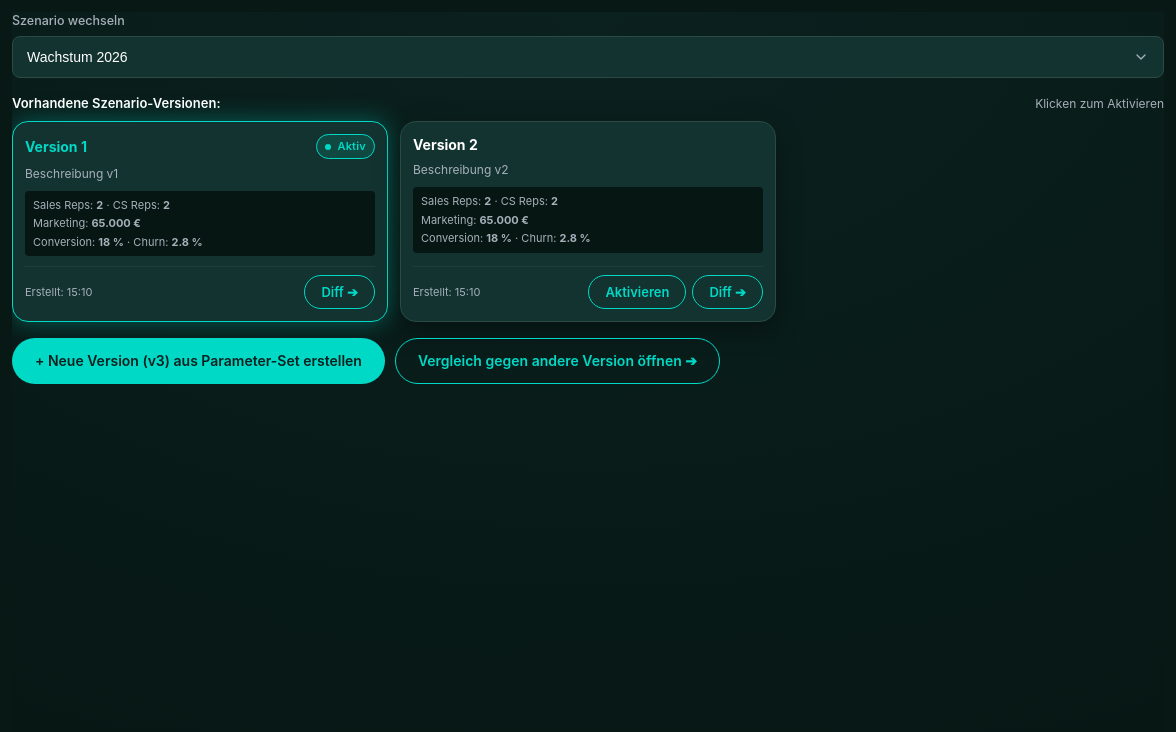
ScenarioManageTab (branch2) › Erfolgs-Submit schließt Formular, öffnet Diff und leert Beschreibung
This screenshot has width=1176, height=732.
Click the button "+ Neue Version (v3) aus Parameter-Set erstellen". click: (198, 361)
box: [12,338,385,384]
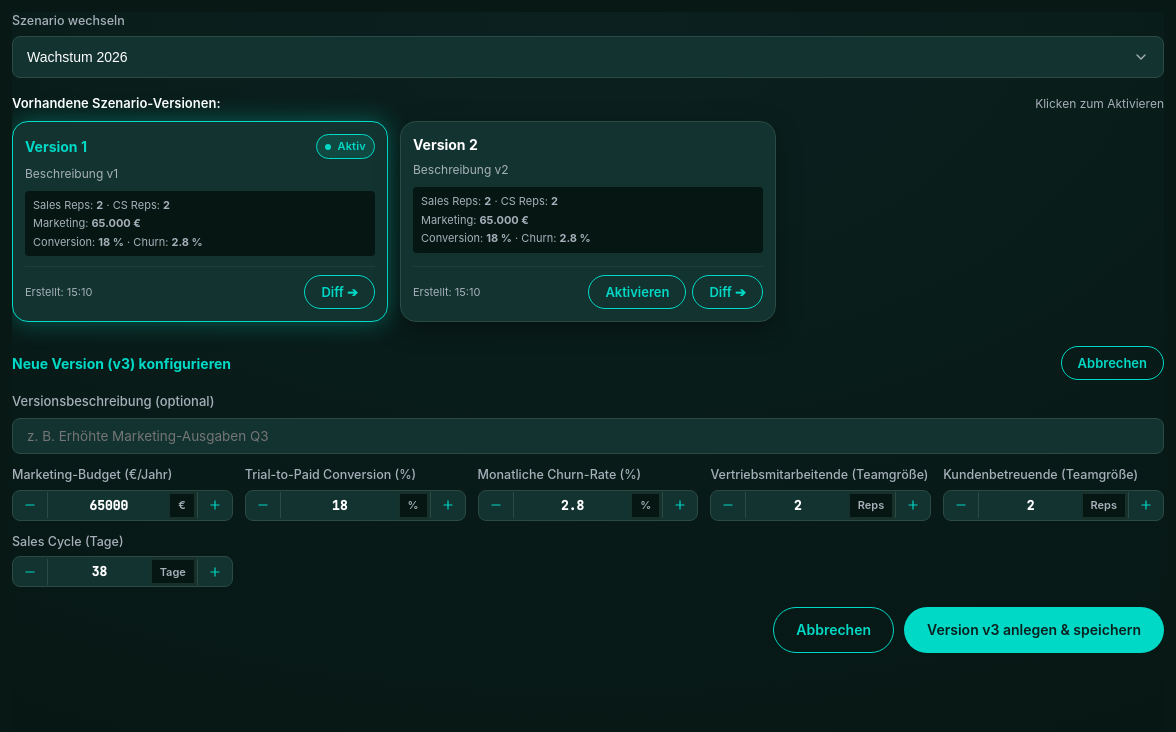
Type "Mehr Budget" into the field with placeholder "z. B. Erhöhte Marketing-Ausgaben Q3". click: (588, 436)
box: [12,418,1164,454]
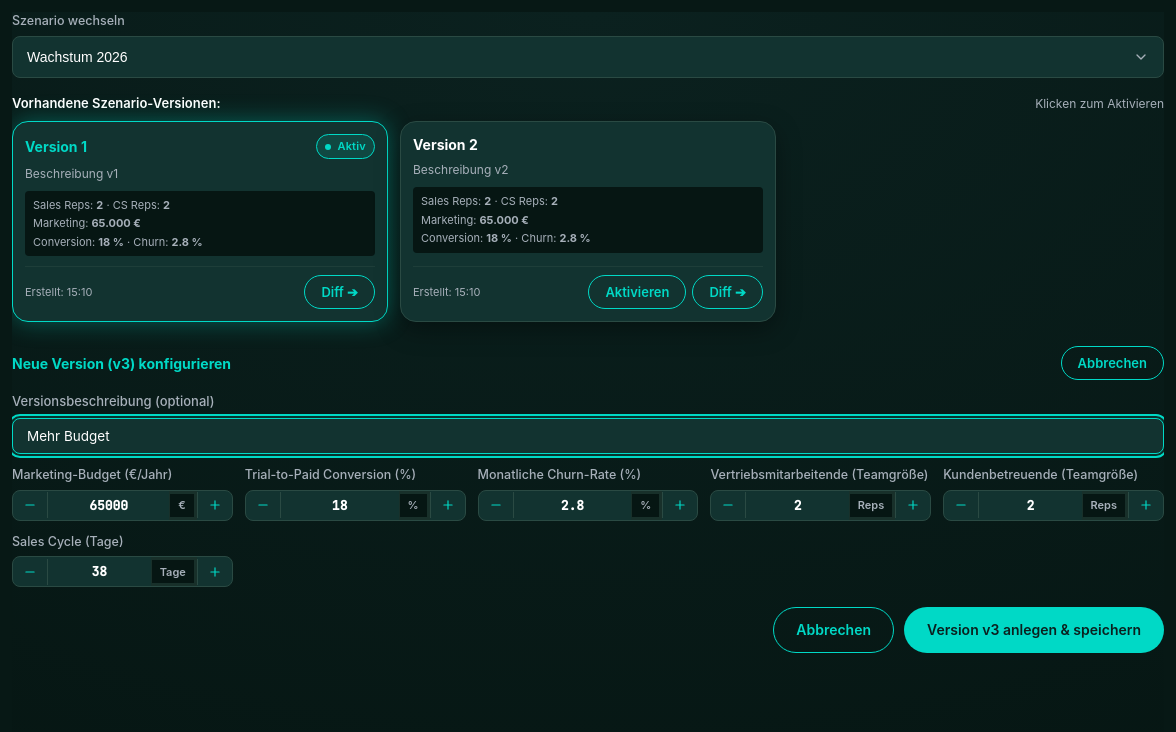
Click the button "Version v3 anlegen & speichern". click: (1034, 630)
box: [904,607,1164,653]
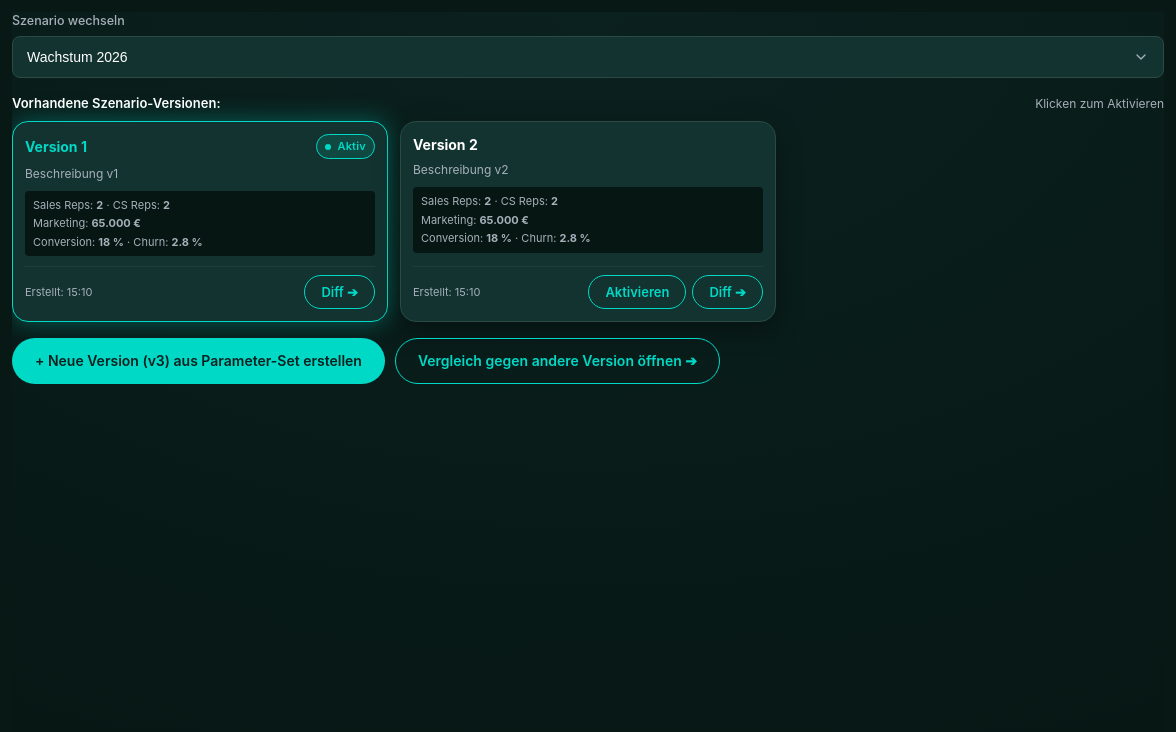
expect the heading "Neue Version (v3) konfigurieren" is gone: met
